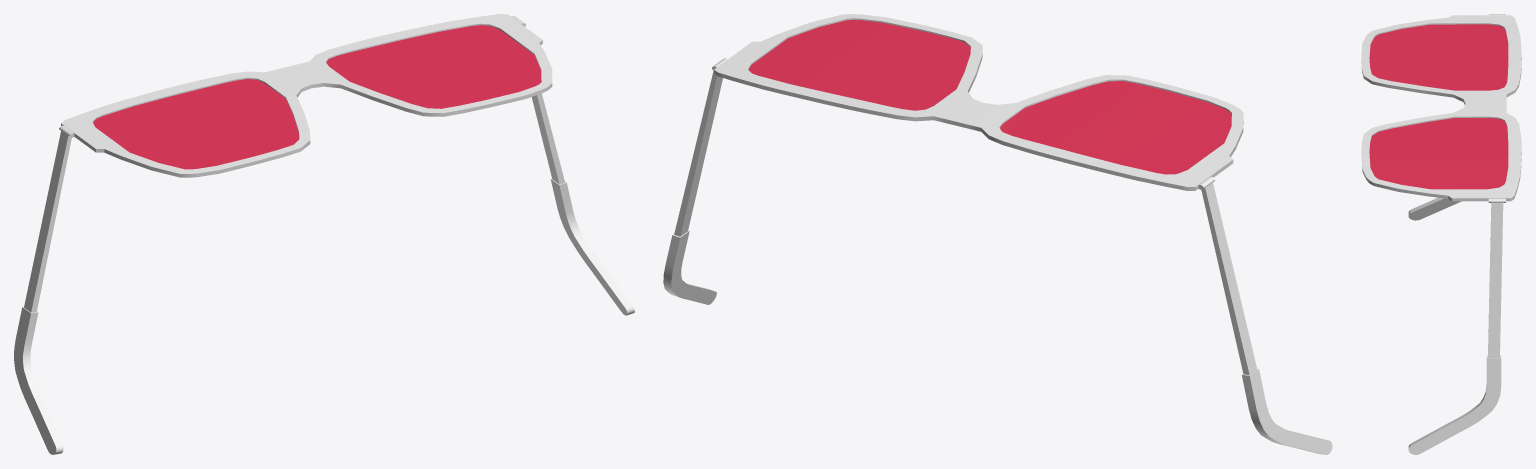
File: Red Shades Updated.glb
3 renders of one model, left to right at view 1: azimuth 30°, elevation 25°; view 2: azimuth 150°, elevation 25°; view 3: azimuth 270°, elevation 25°, orthographic. The views are drawn at different scales.
Parts seen in each view (by area): view 1: glasses19.001; view 2: glasses19.001; view 3: glasses19.001.
Part boxes in pixels (bbox=[...]): glasses19.001: bbox=[14, 14, 634, 454]; glasses19.001: bbox=[663, 14, 1332, 454]; glasses19.001: bbox=[1361, 14, 1521, 454].
Size of the model in its own units: 182 by 83.05 by 51.93.
